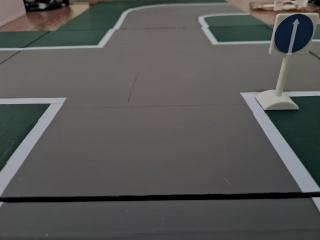straight: (268, 11, 320, 56)
